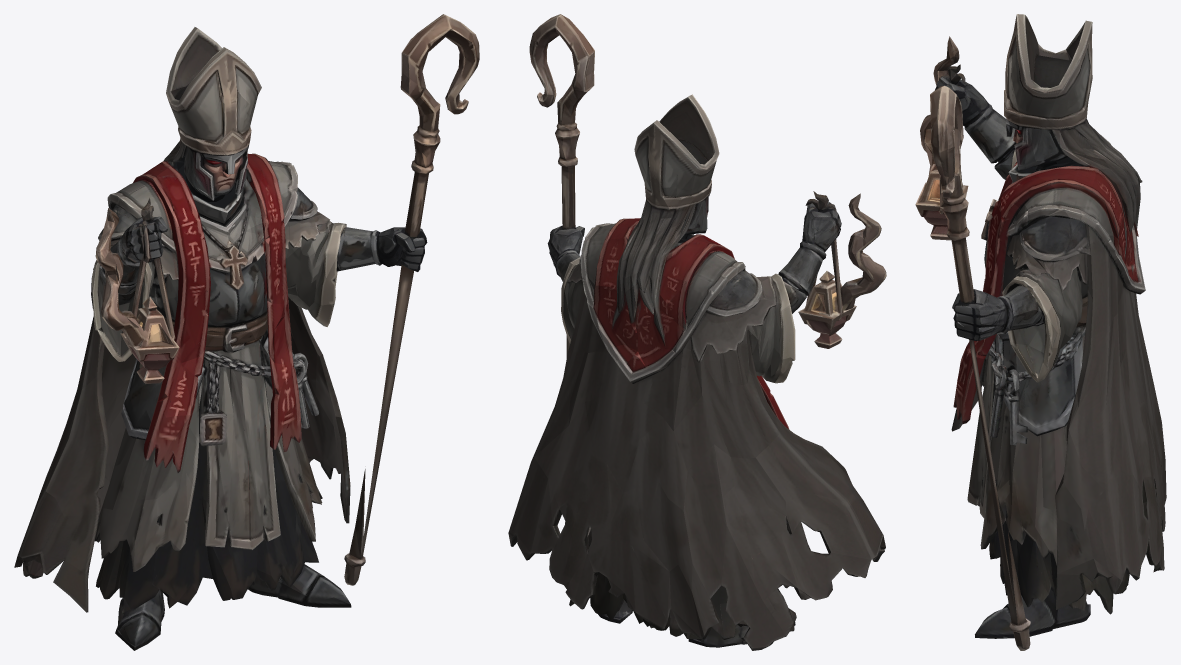
File: ashen_chaplain_bishop_standalone.glb
The picture shows the model from 3 angles, left to right: view 1: azimuth 30°, elevation 25°; view 2: azimuth 150°, elevation 25°; view 3: azimuth 270°, elevation 25°; orthographic projection. The views are drawn at different scales.
Visible parts, largest first — view 1: Mesh_0; view 2: Mesh_0; view 3: Mesh_0.
Part boxes in pixels (x1,y1,x2,y2): Mesh_0: [14, 14, 479, 650]; Mesh_0: [508, 14, 886, 650]; Mesh_0: [915, 14, 1166, 650].
Bounding box in the file's own units: 1.42 × 1.9 × 0.7316.
Materials: 1 (1 with a texture image).
